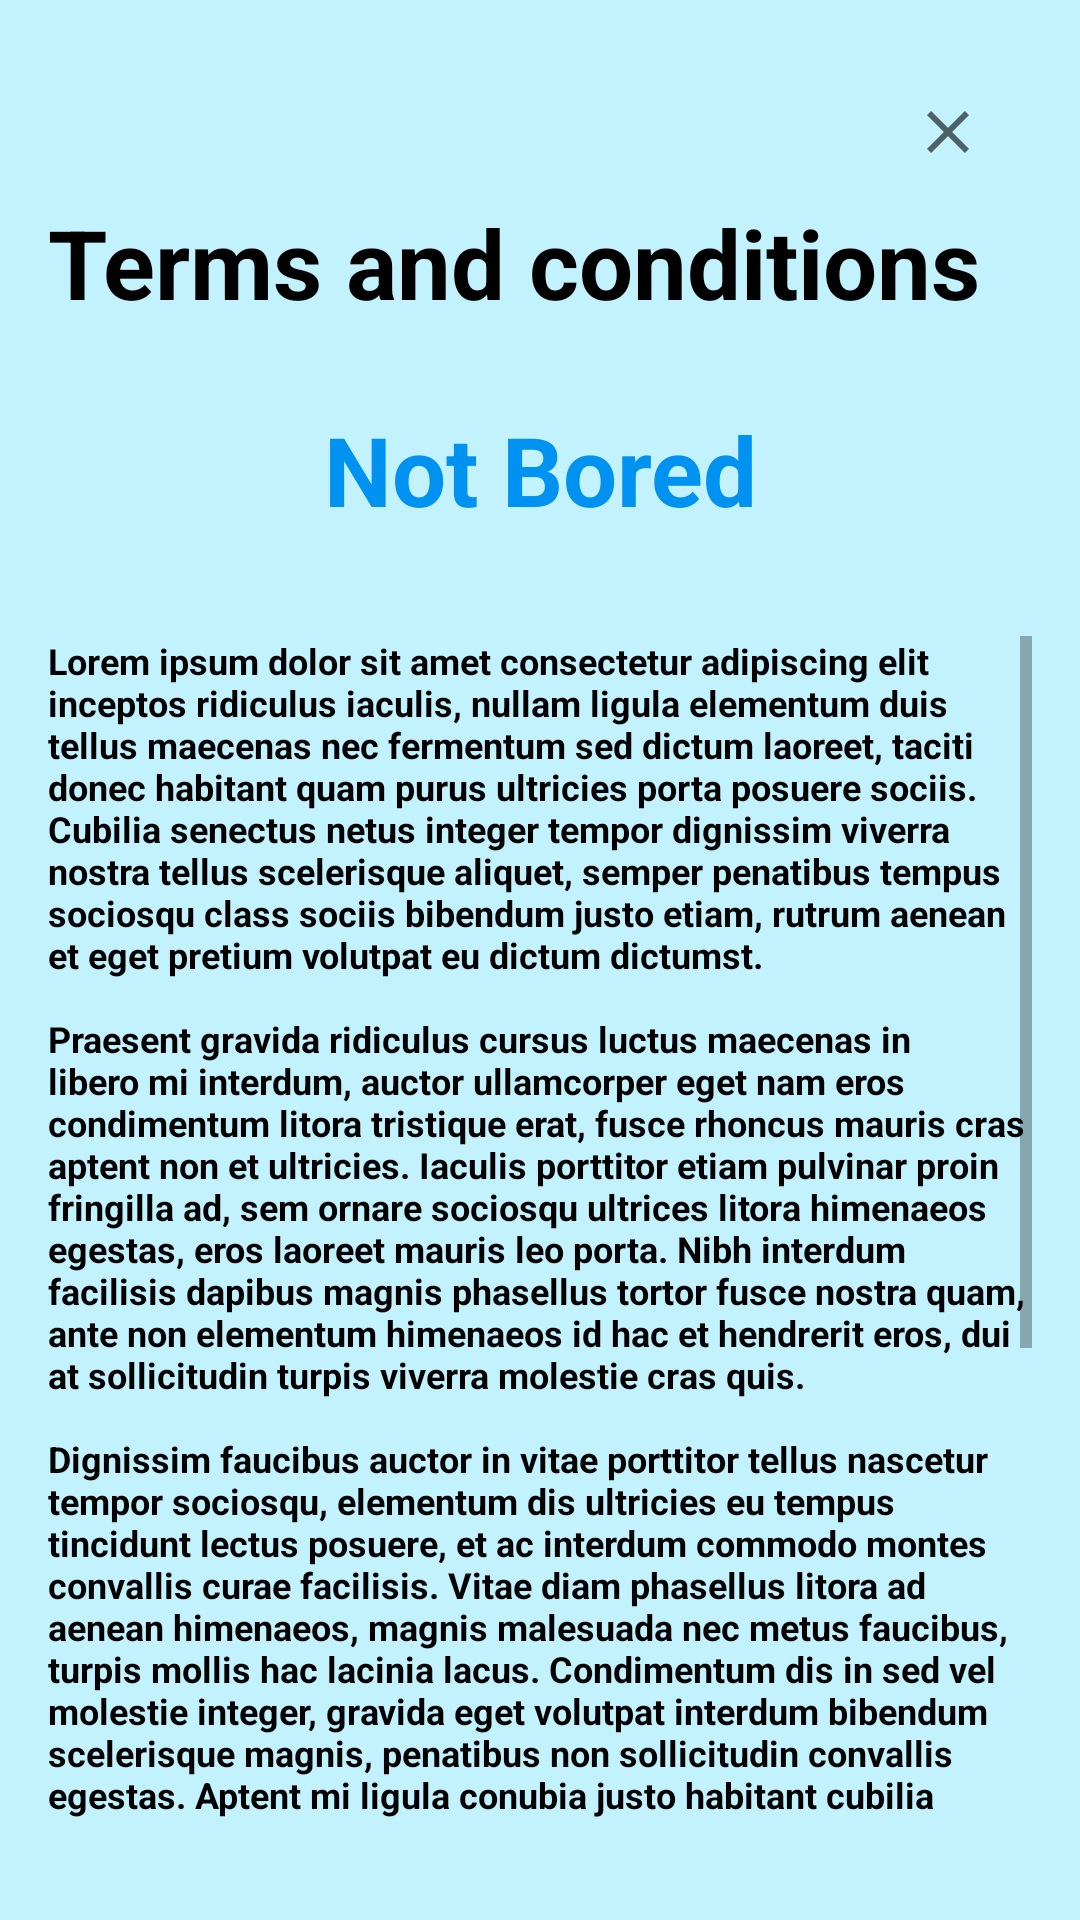

Icon click points for this 1080 x 1920 phone screenshot, format (x,y):
close: (948,132)
